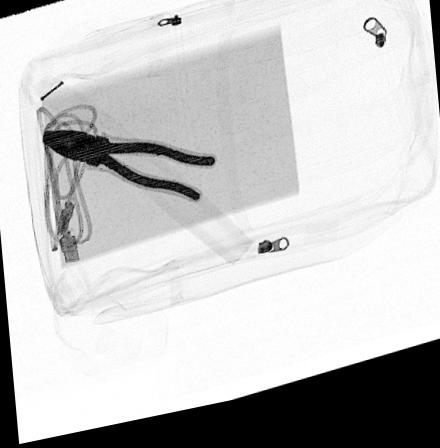Pliers: (40, 130, 218, 212)
